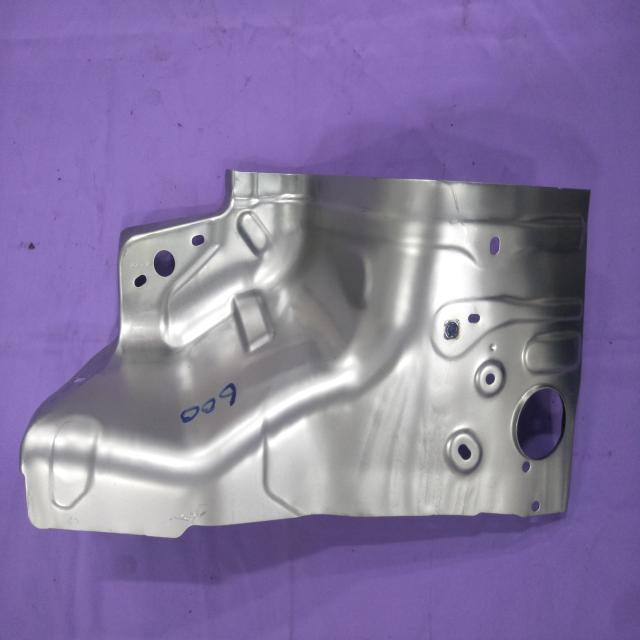Healthy: (20, 166, 591, 538)
